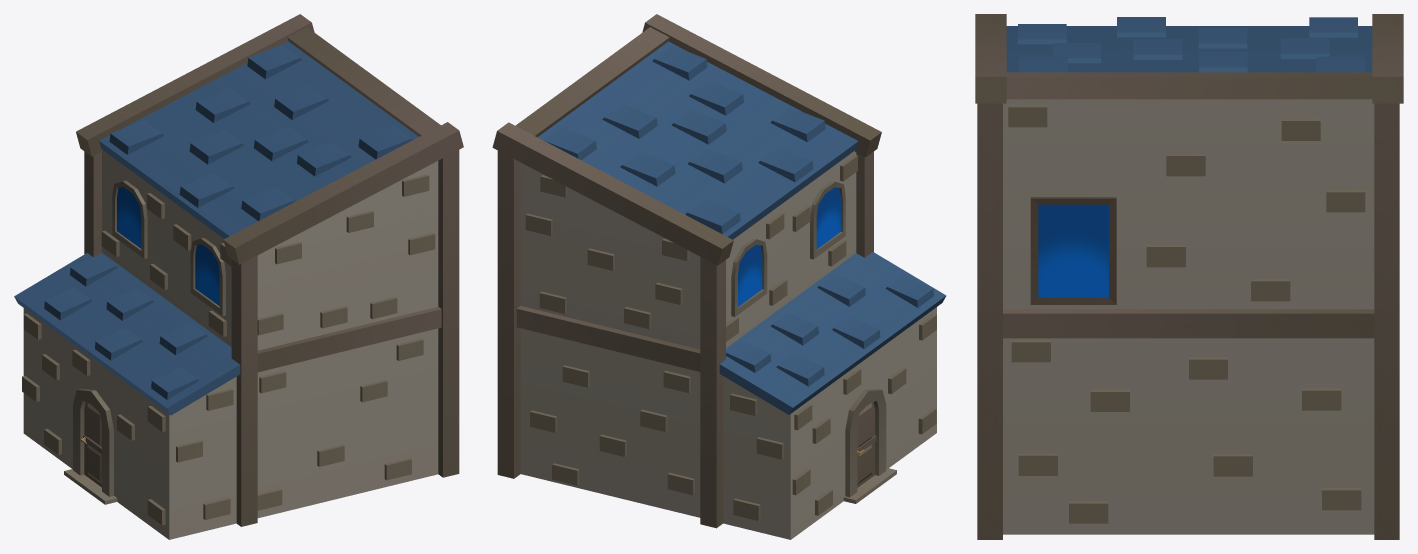
The model's file is SM_House_10.FBX.
3 views of the same model, side by side, from view 1: azimuth 30°, elevation 25°; view 2: azimuth 150°, elevation 25°; view 3: azimuth 270°, elevation 25° (orthographic). The views are drawn at different scales.
Visible parts, largest first — view 1: SM_House_10; view 2: SM_House_10; view 3: SM_House_10.
Boxes of the visible parts, box(x1,y1,x2,y2) form: SM_House_10: box(14, 14, 463, 539); SM_House_10: box(492, 14, 946, 539); SM_House_10: box(975, 14, 1403, 539).
Size of what is drawn, in the model's own units: 837 by 765 by 912.
